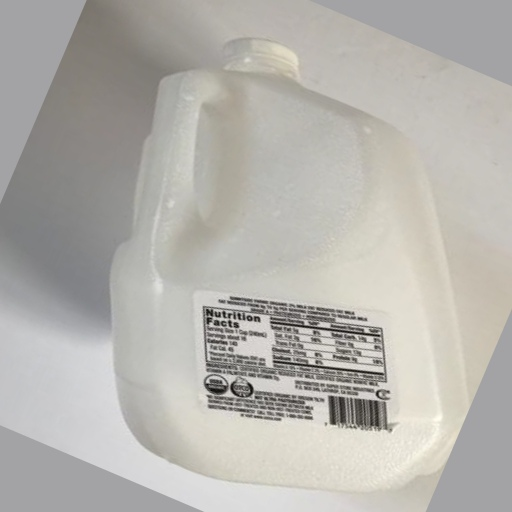Plastic_1: (110, 35, 469, 486)
